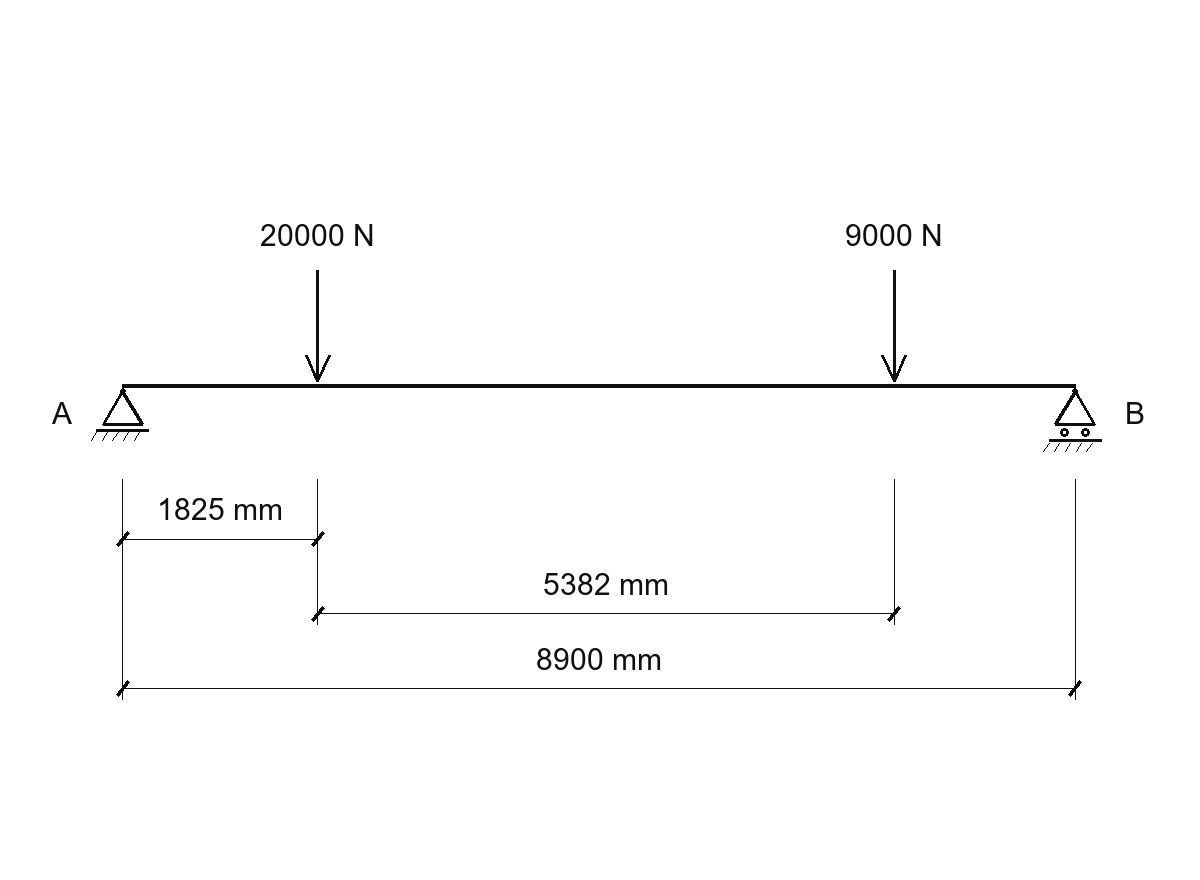pin_support: (91, 388, 149, 441)
point_load: (305, 270, 331, 382), (881, 270, 907, 382)
roller_support: (1043, 388, 1102, 452)
